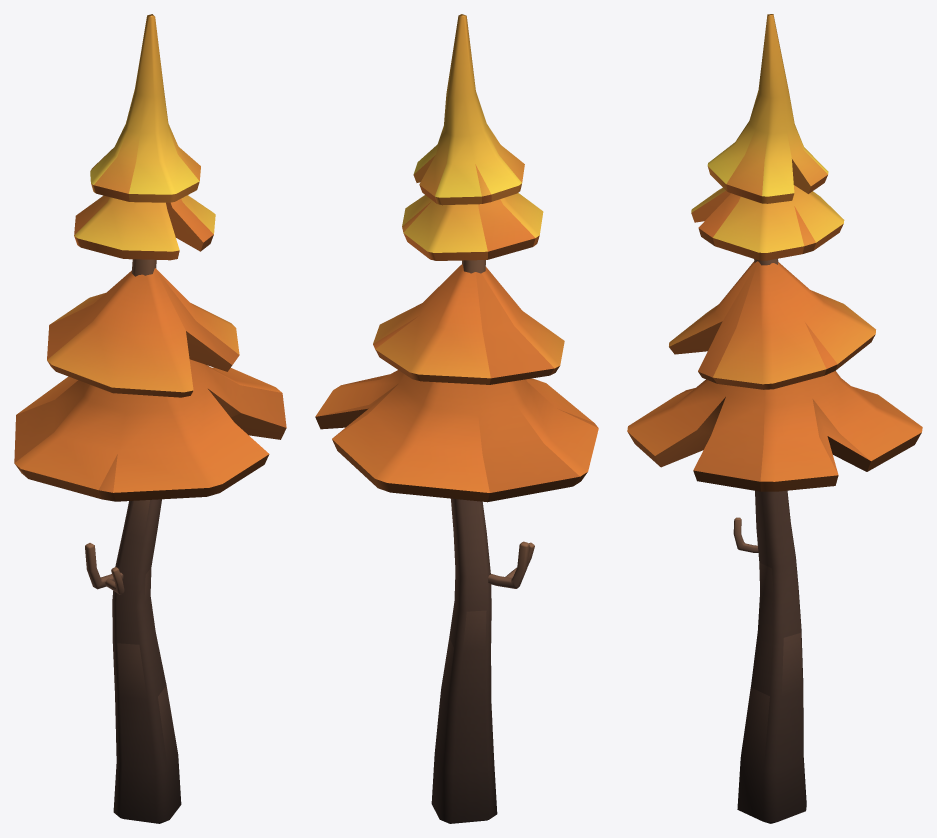
Rendered from pine_tree_col2_02.fbx.
3 renders of one model, left to right at view 1: azimuth 30°, elevation 25°; view 2: azimuth 150°, elevation 25°; view 3: azimuth 270°, elevation 25°, orthographic.
Parts seen in each view (by area): view 1: tree_pine_col2_02; view 2: tree_pine_col2_02; view 3: tree_pine_col2_02.
Boxes of the visible parts, <box> form: tree_pine_col2_02: <box>14,14,286,823</box>; tree_pine_col2_02: <box>315,14,598,823</box>; tree_pine_col2_02: <box>627,14,922,823</box>.
Bounding box in the file's own units: 478 × 1429 × 479.
Materials: 1 (1 with a texture image).
